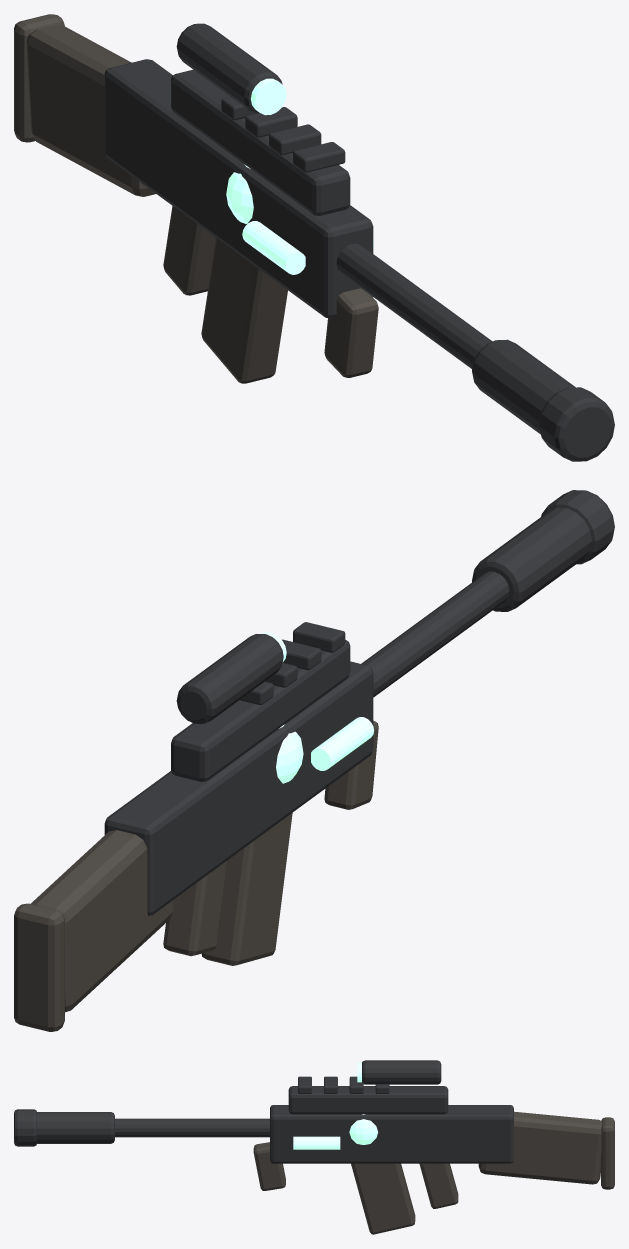
Rendered from rifle.glb.
3 renders of one model, top to bottom at view 1: azimuth 30°, elevation 25°; view 2: azimuth 150°, elevation 25°; view 3: azimuth 270°, elevation 25°, orthographic. The views are drawn at different scales.
Parts seen in each view (by area): view 1: receiver, stock, mag, chassis_top, barrel, suppressor, muzzle_brake, scope, foregrip, grip, stock_pad, cellL (+5 smaller); view 2: receiver, stock, chassis_top, mag, suppressor, stock_pad, barrel, scope, grip, muzzle_brake, foregrip, cellL (+3 smaller); view 3: receiver, stock, chassis_top, mag, barrel, suppressor, scope, grip, foregrip, stock_pad, muzzle_brake, cellR (+1 smaller).
Boxes of the visible parts, x1,y1,x2,y2 form: receiver: (104, 59, 373, 318); stock: (26, 25, 155, 196); mag: (201, 238, 287, 383); chassis_top: (171, 69, 350, 215); barrel: (336, 243, 492, 368); suppressor: (472, 339, 575, 434); muzzle_brake: (539, 387, 614, 461); scope: (176, 23, 282, 113); foregrip: (324, 288, 378, 377); grip: (163, 206, 215, 295); stock_pad: (14, 14, 64, 142); cellL: (242, 221, 305, 274); receiver: (104, 661, 373, 915); stock: (31, 830, 174, 1012); chassis_top: (171, 640, 350, 781); mag: (201, 813, 292, 965); suppressor: (472, 508, 591, 611); stock_pad: (14, 903, 64, 1031); barrel: (361, 571, 509, 697); scope: (176, 634, 283, 723); grip: (163, 861, 227, 956); muzzle_brake: (541, 490, 614, 564); foregrip: (324, 720, 378, 809); cellL: (311, 717, 374, 770); receiver: (270, 1105, 513, 1163); stock: (478, 1111, 601, 1184); chassis_top: (288, 1086, 448, 1114); mag: (351, 1163, 415, 1234); barrel: (115, 1118, 269, 1137); suppressor: (37, 1112, 114, 1143); scope: (362, 1060, 441, 1084); grip: (419, 1163, 458, 1208); foregrip: (253, 1142, 285, 1190); stock_pad: (601, 1117, 614, 1189); muzzle_brake: (14, 1109, 36, 1146); cellR: (293, 1136, 340, 1149).
Size of the model in its own units: 0.118 by 0.3983 by 1.28.
